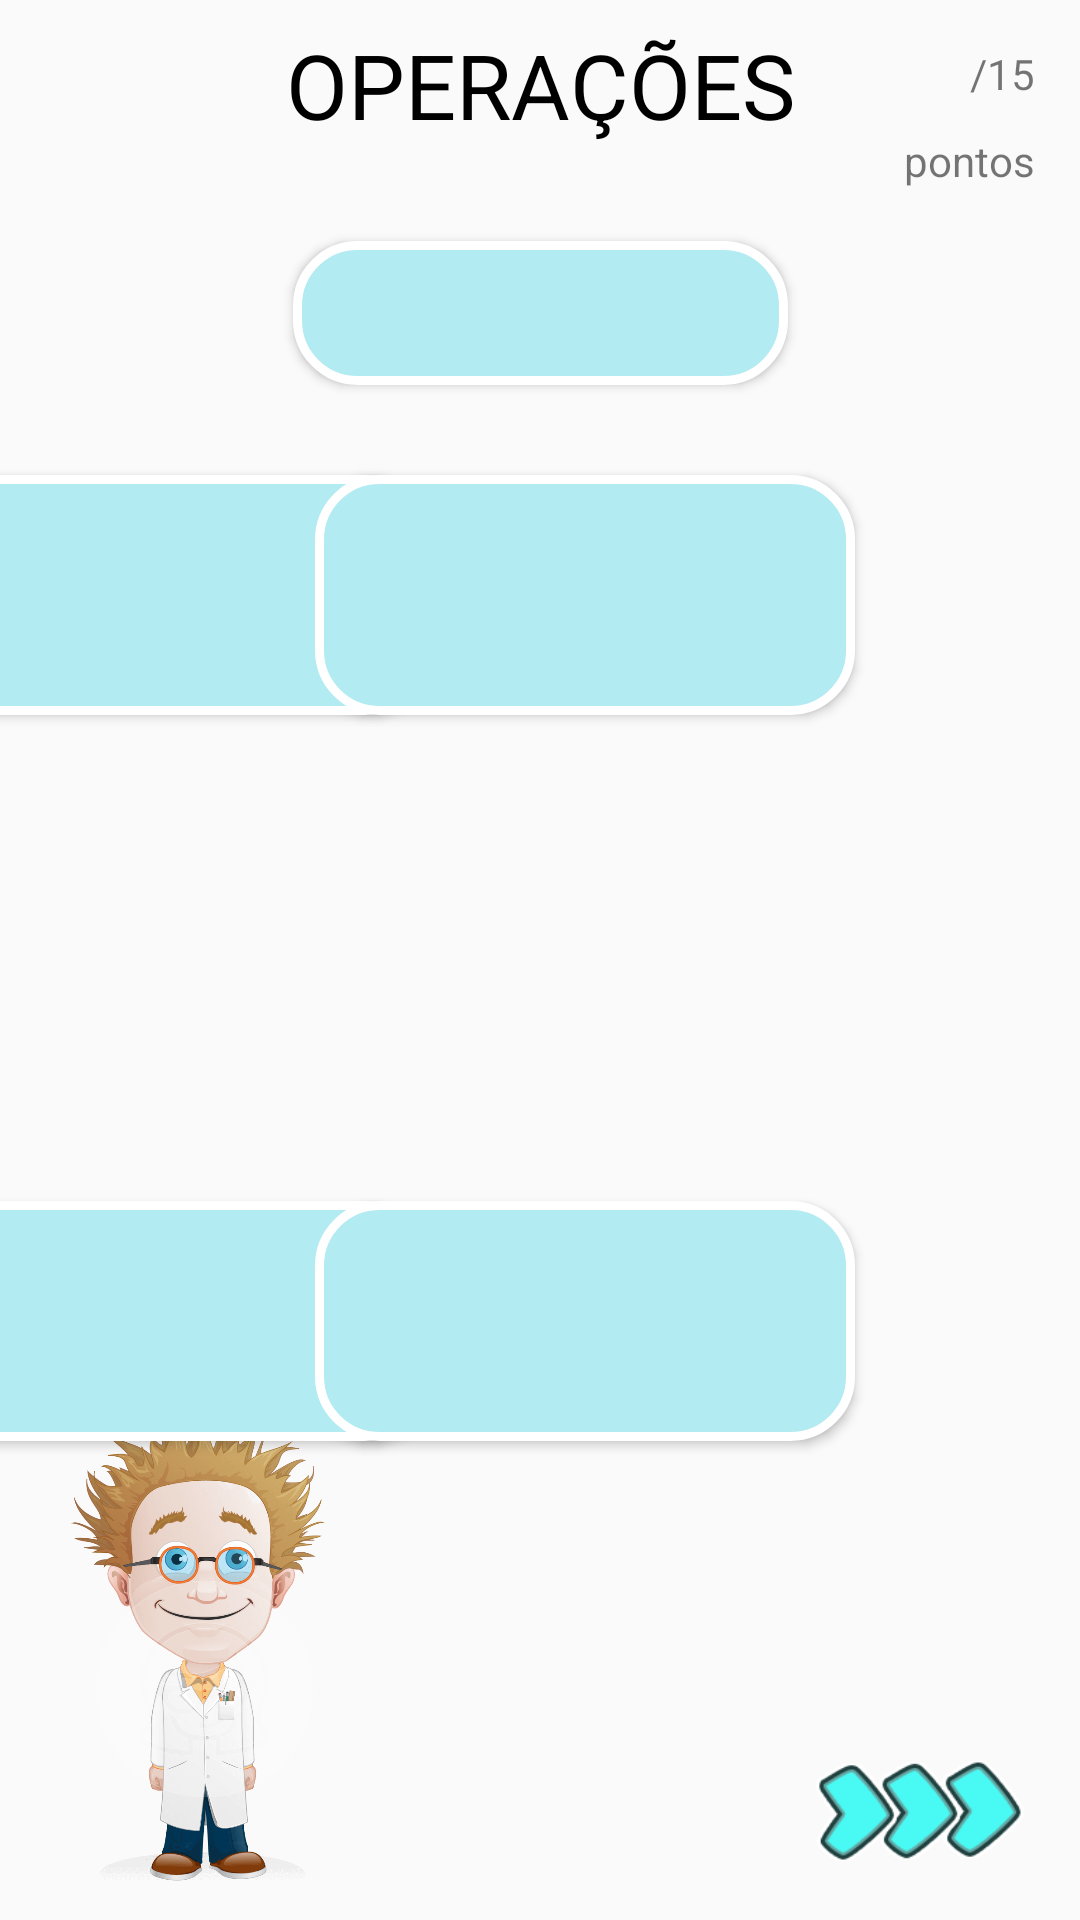

Named icons in this screenshot (1080*1920) and their centers, [x,y]:
setas coloridas: [920,1811]
